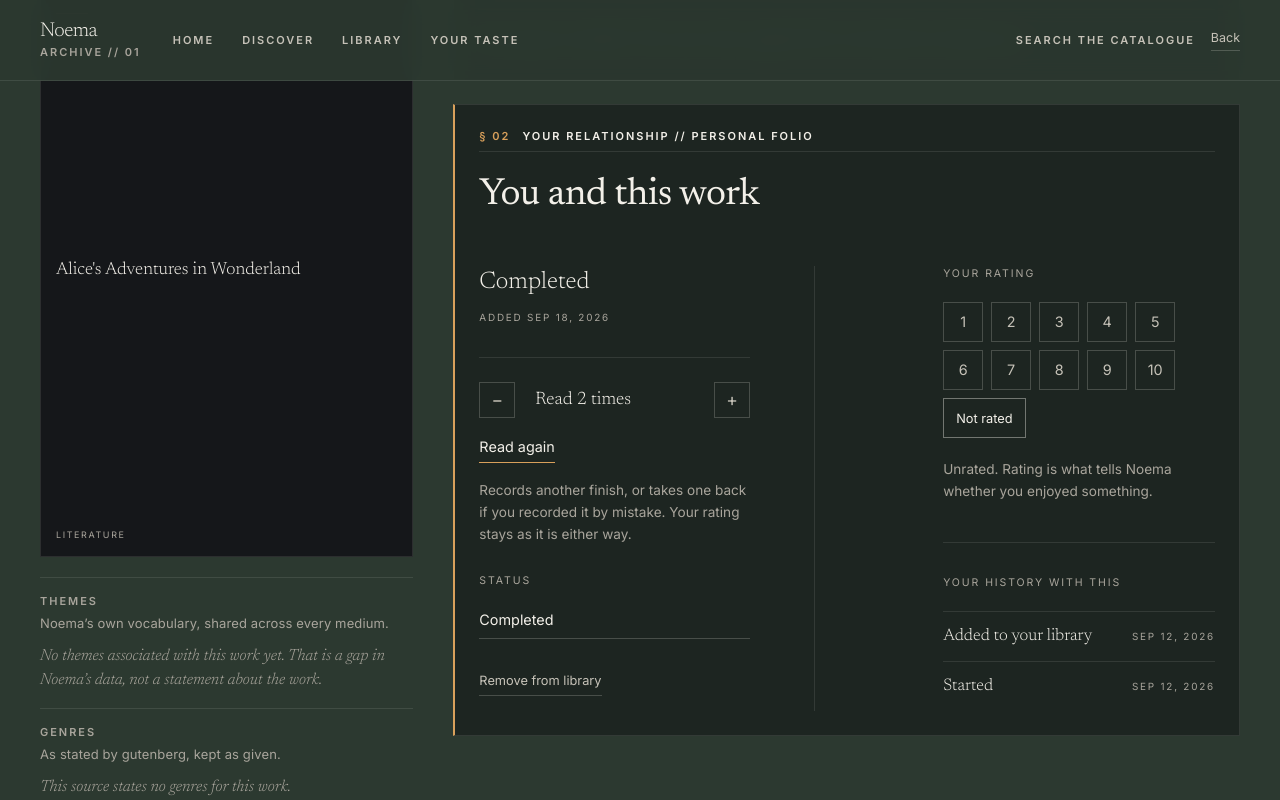
Scenario: WorkPage › leaves the work completed and in the library after a correction
This screenshot has width=1280, height=800.
(page scrolled)
Click the button named "Remove one recorded read" at (497,400), box [479,382,515,418]
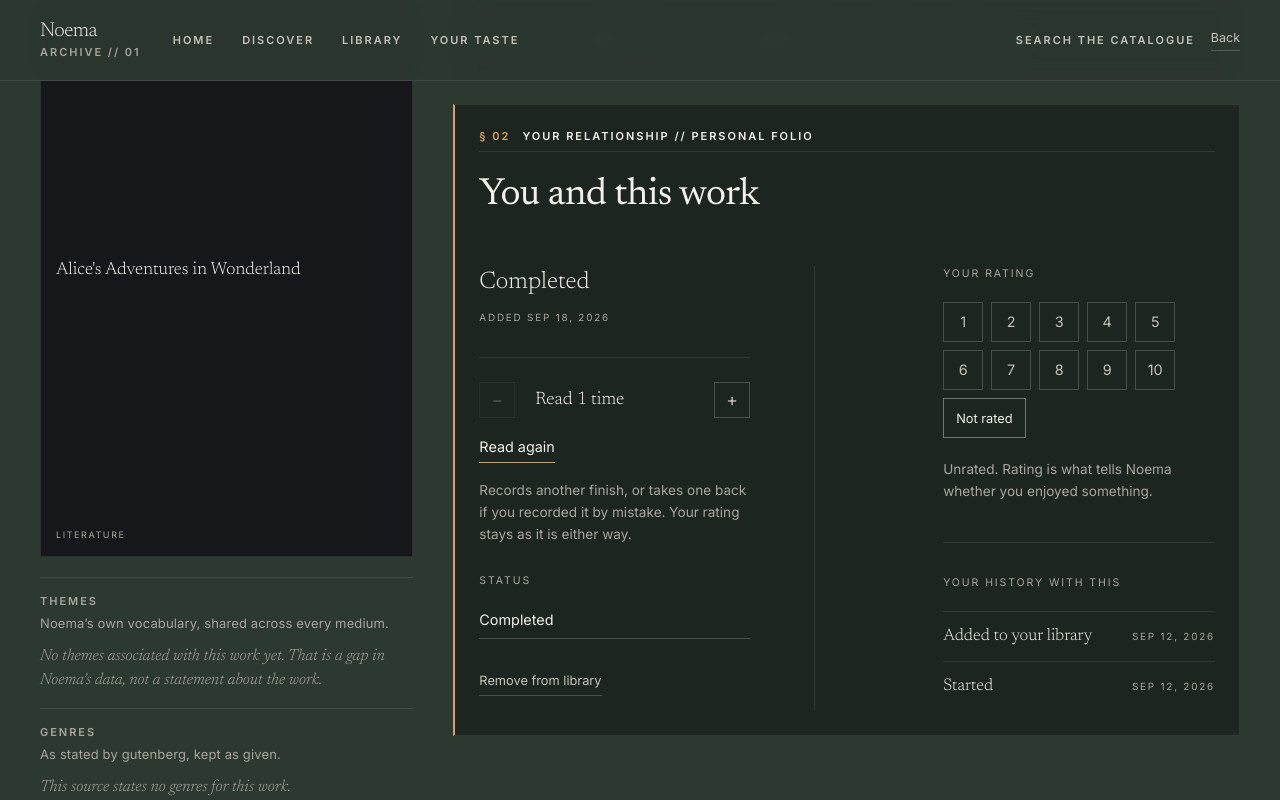
Expected: the button "Remove from library" is shown, [479,671,602,696]
Result: the text "Read 1 time" is shown at [535,391,624,409]
